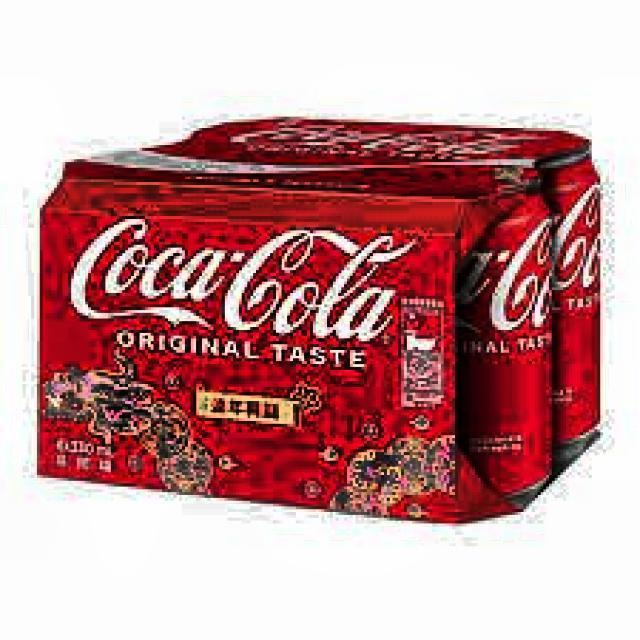Aluminum Can: (448, 173, 556, 512), (534, 138, 602, 460)
